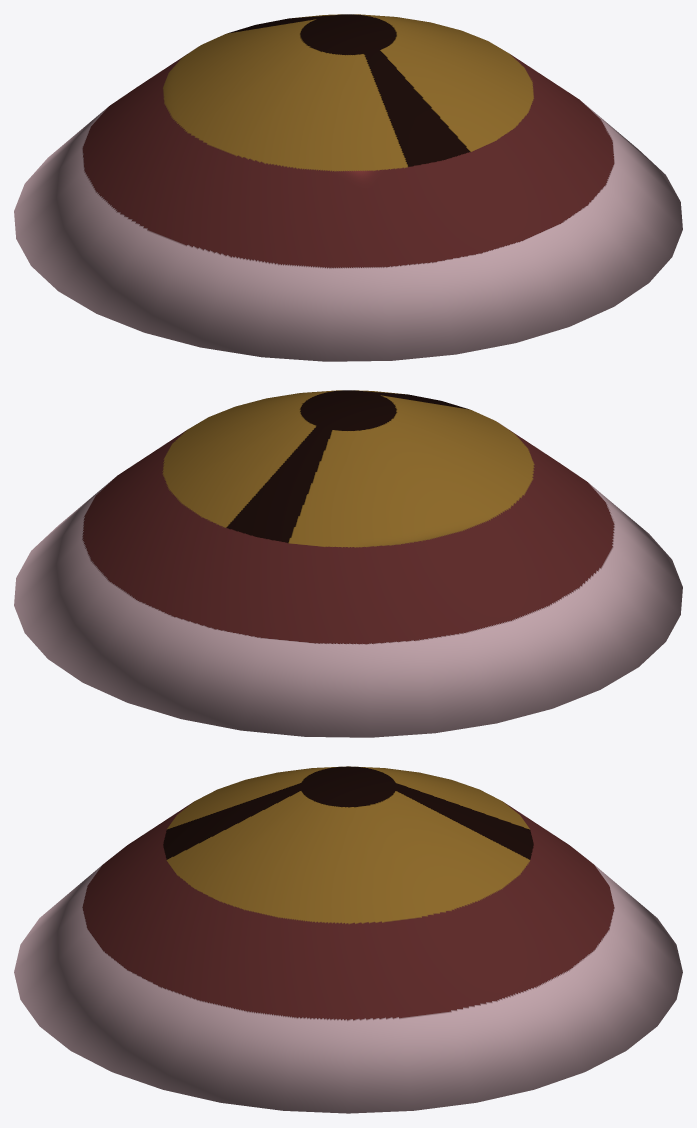
The model's file is KrakenEyeEevee.glb.
3 views of the same model, one above another, from view 1: azimuth 30°, elevation 25°; view 2: azimuth 150°, elevation 25°; view 3: azimuth 270°, elevation 25° (orthographic).
Visible parts, largest first — view 1: Eye1.002; view 2: Eye1.002; view 3: Eye1.002.
Part boxes in pixels (left/top/right/bottom): Eye1.002: left=14, top=14, right=682, bottom=361; Eye1.002: left=14, top=390, right=682, bottom=737; Eye1.002: left=14, top=766, right=682, bottom=1113.
Bounding box in the file's own units: 2 × 0.6114 × 2.
1 material, 1 textured.
